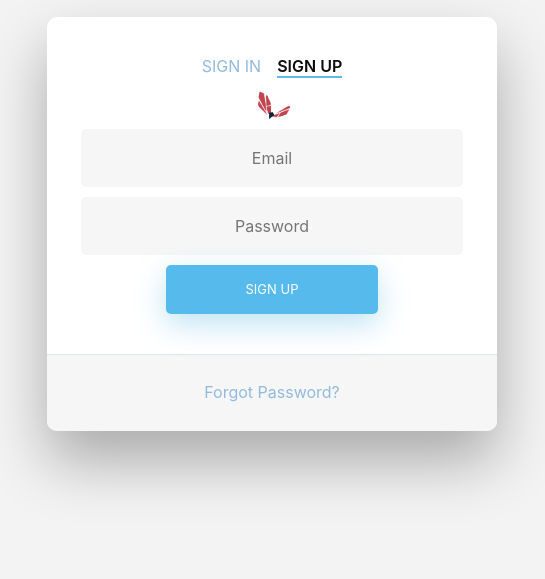
Test: SignUp.vue › Check if email and password is correctly set and if on submitting the forum, A success response is returned
Click the button with id "submit": (272, 290) [166,265,378,314]
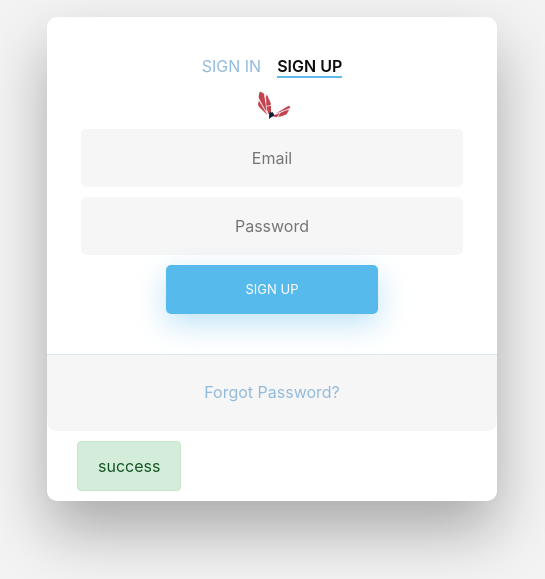
Now the text "success" is shown, box [77,442,181,492]
